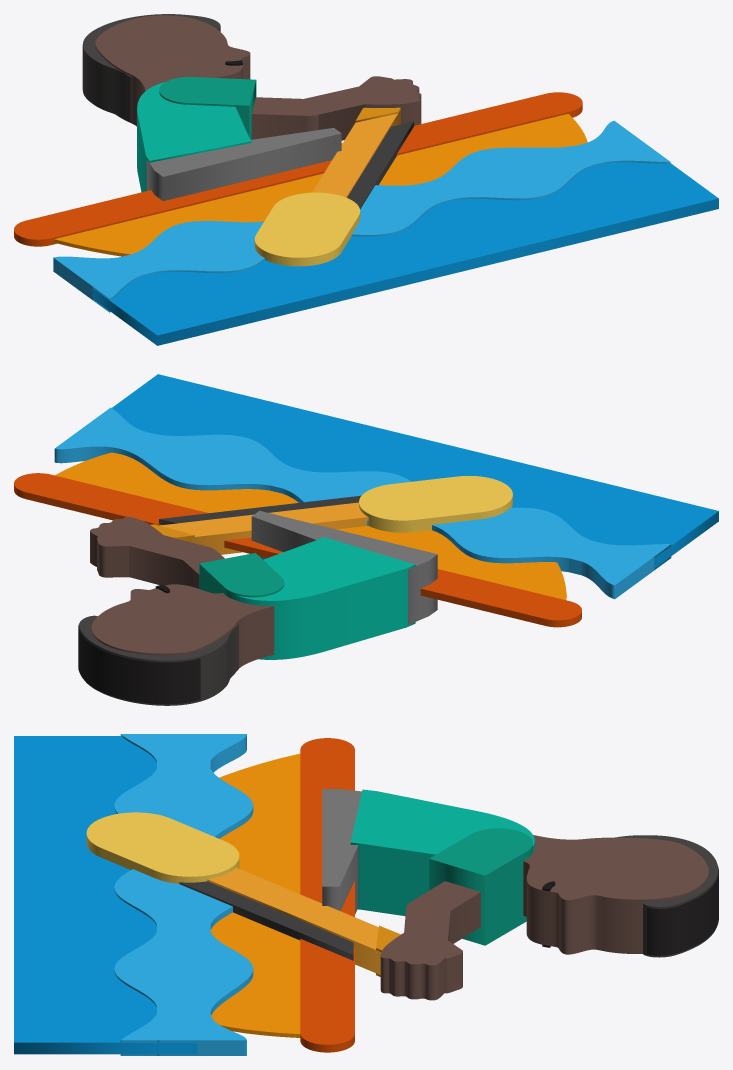
File: emoji_u1f6a3_1f3ff_200d_2642.glb
3 views of the same model, one above another, from view 1: azimuth 30°, elevation 25°; view 2: azimuth 150°, elevation 25°; view 3: azimuth 270°, elevation 25° (orthographic). The views are drawn at different scales.
Parts seen in each view (by area): view 1: emoji_u1f6a3_1f3ff_200d_2642; view 2: emoji_u1f6a3_1f3ff_200d_2642; view 3: emoji_u1f6a3_1f3ff_200d_2642.
Boxes of the visible parts, box(x1,y1,x2,y2) form: emoji_u1f6a3_1f3ff_200d_2642: box(14, 14, 718, 345); emoji_u1f6a3_1f3ff_200d_2642: box(14, 374, 718, 705); emoji_u1f6a3_1f3ff_200d_2642: box(14, 734, 718, 1055).
Bounding box in the file's own units: 0.0338 × 0.0036 × 0.0329.
